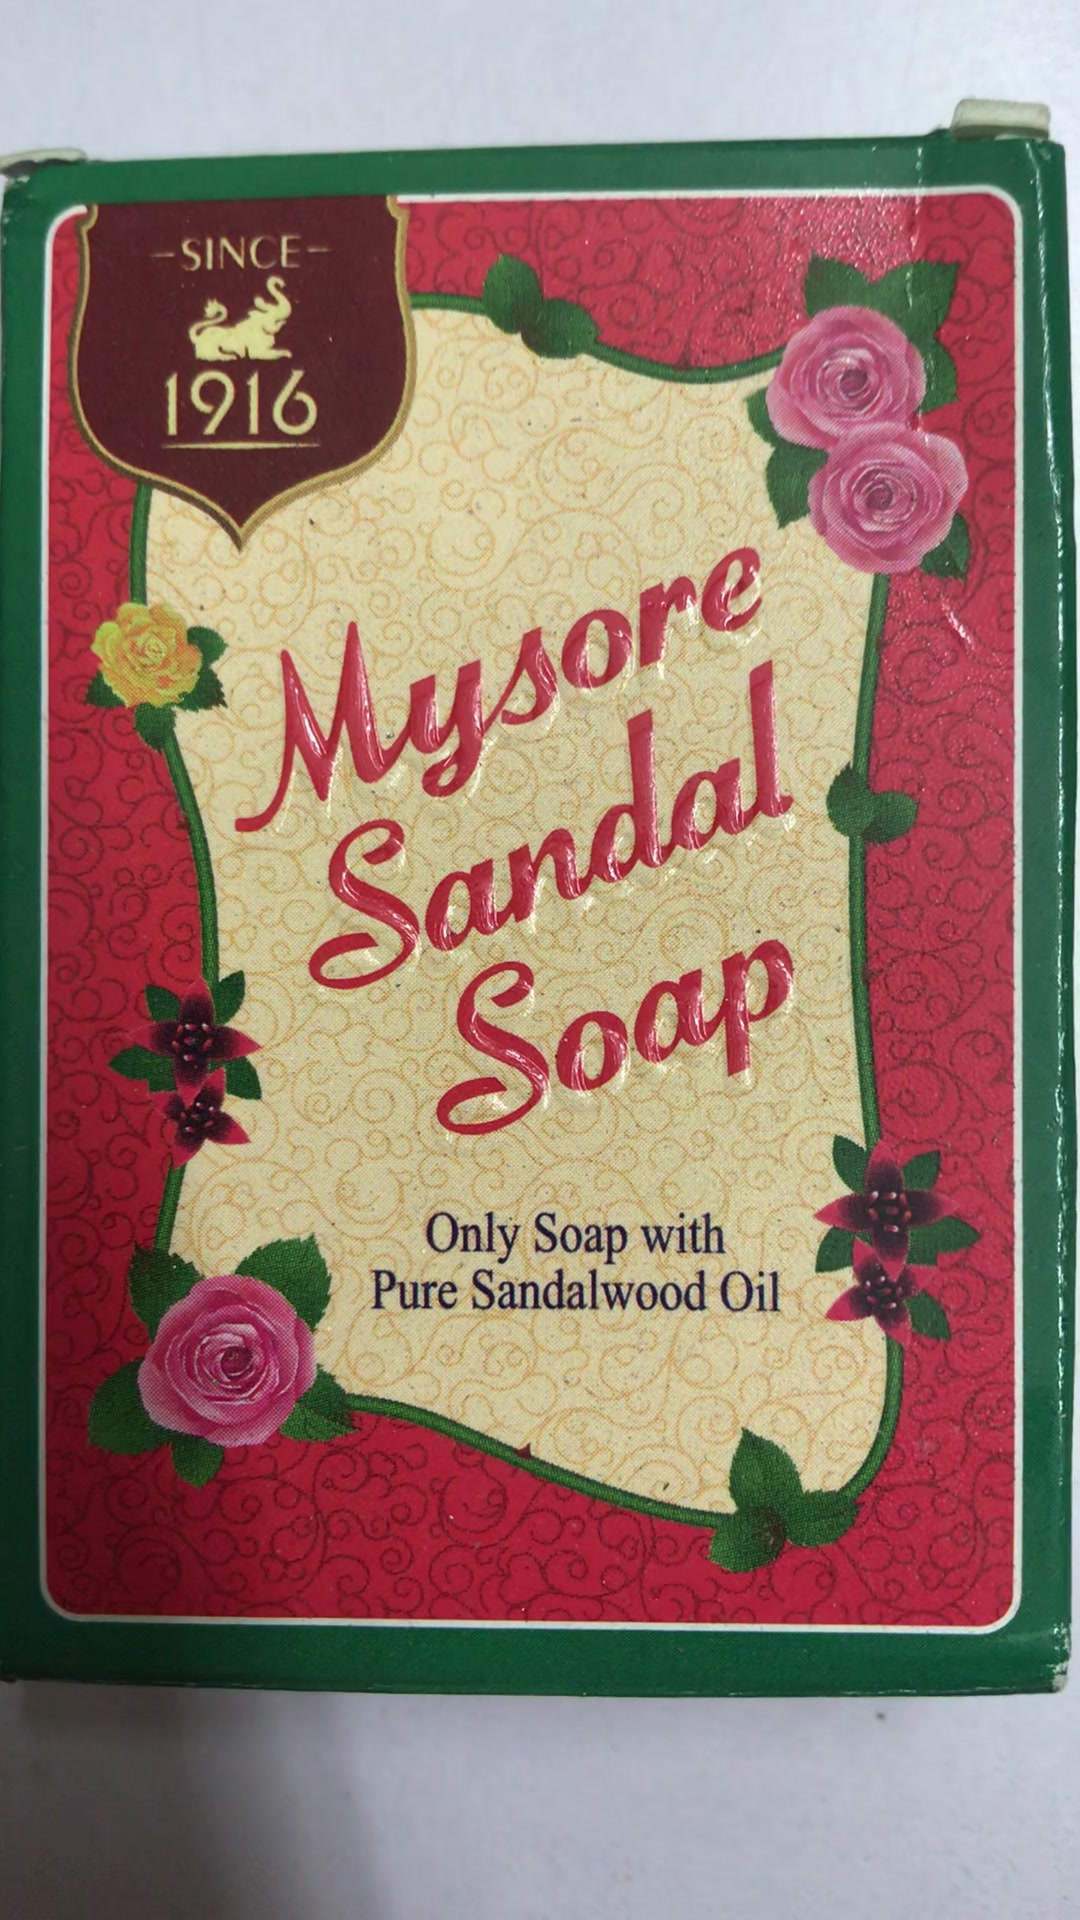mysore sandal soap: (1, 138, 1054, 1663)
